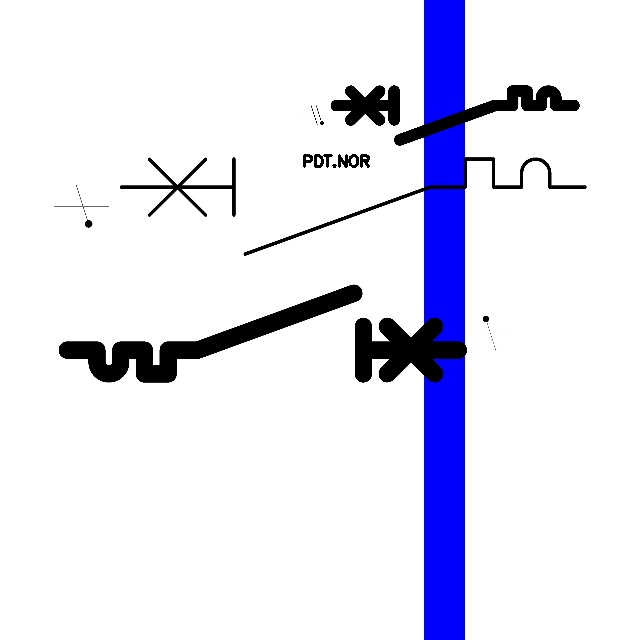interruptor_termomagnetico: (109, 147, 597, 266), (57, 283, 468, 384), (330, 85, 580, 146)
